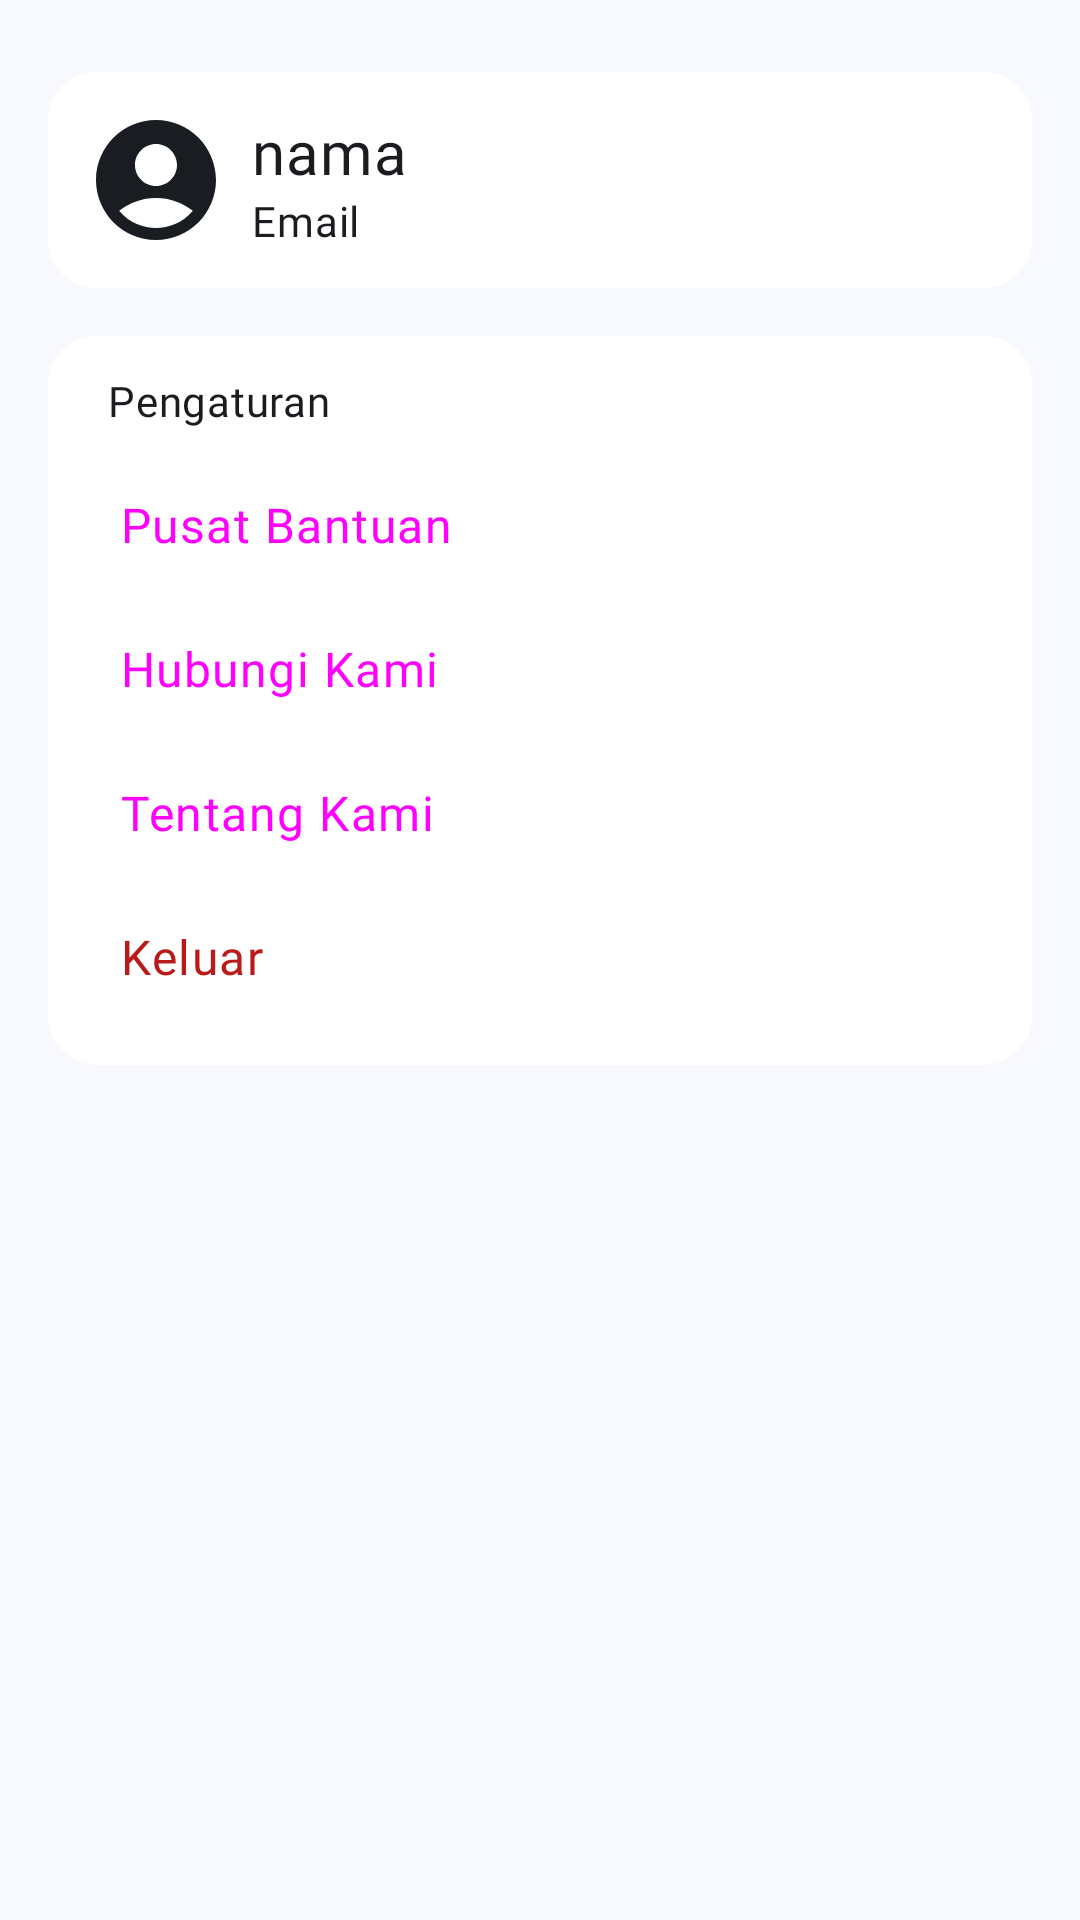

Where to tap for icons on this 1080px x 1920px app screen, as (x,y):
account circle: (156,180)
